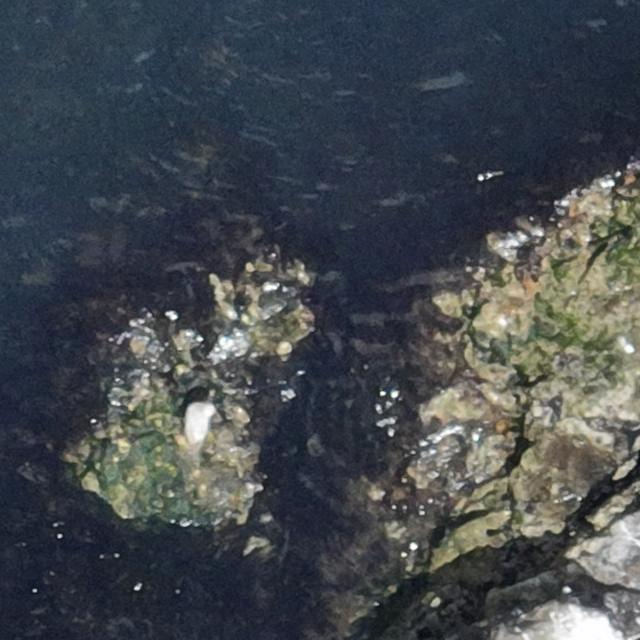umineko: (183, 397, 216, 446)
